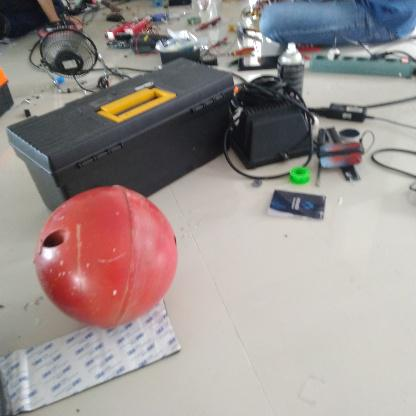red_buoy: (32, 182, 178, 328)
